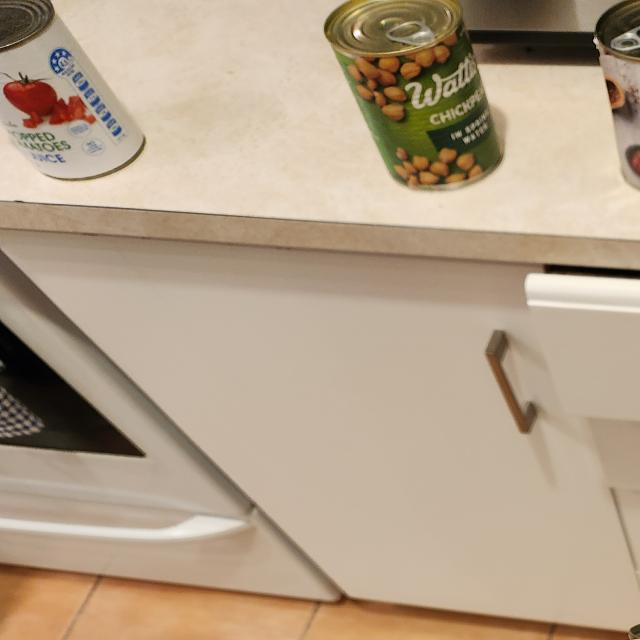black beans: (625, 611, 640, 640)
